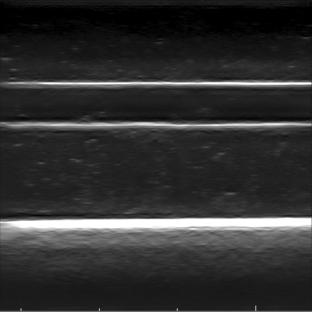vessel: (3, 79, 309, 130)
